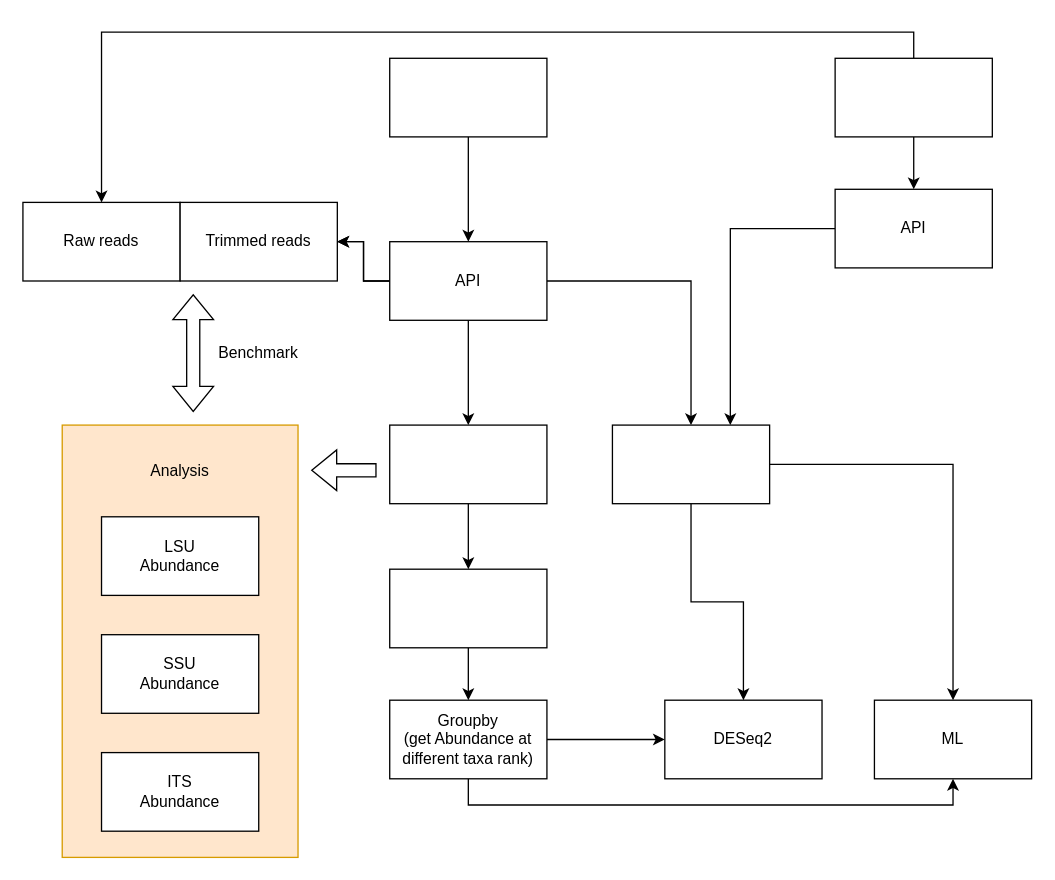
This 1055x880 diagram has some shape labels left out. The shapes that lost their labels are listed below. From the top down, each one's box as (x1, y1, x2, y2) in pixels, then its label:
(388, 57, 547, 137): MGnify
(834, 57, 992, 137): ENA
(388, 424, 547, 504): Study Data
(611, 424, 770, 504): Study MetaData
(388, 568, 547, 648): Outer Join (get same idx)
